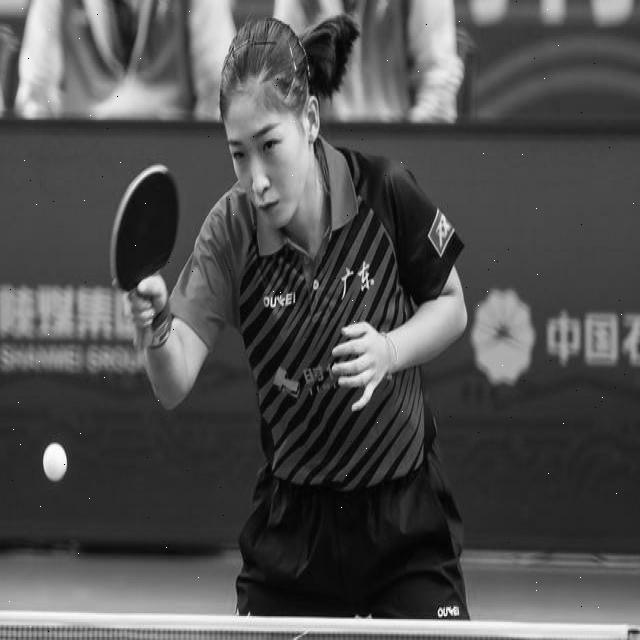ping-pong-ball: (37, 440, 70, 482)
